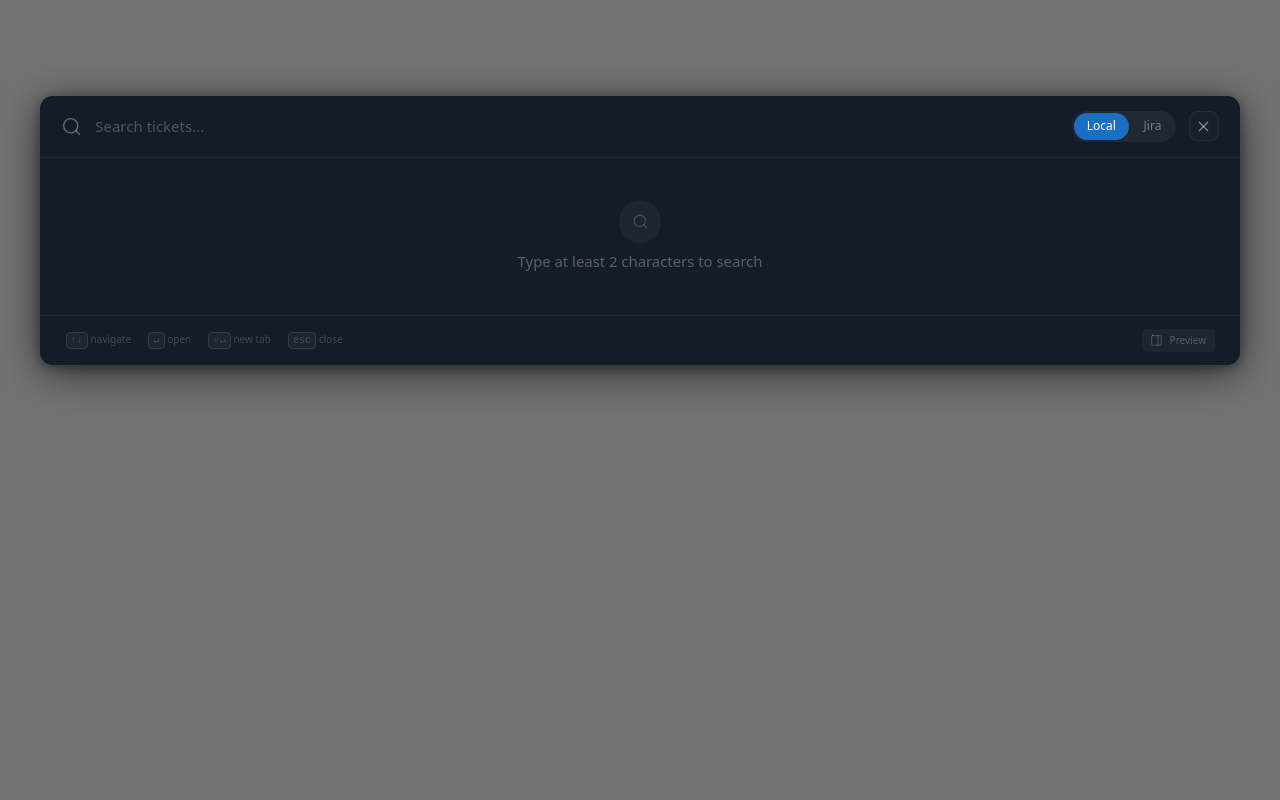
it: SearchModal › switches to Jira mode when Jira tab is clicked
This screenshot has width=1280, height=800.
Click the button "Jira" at (1152, 126), box 1131,113 -> 1174,140
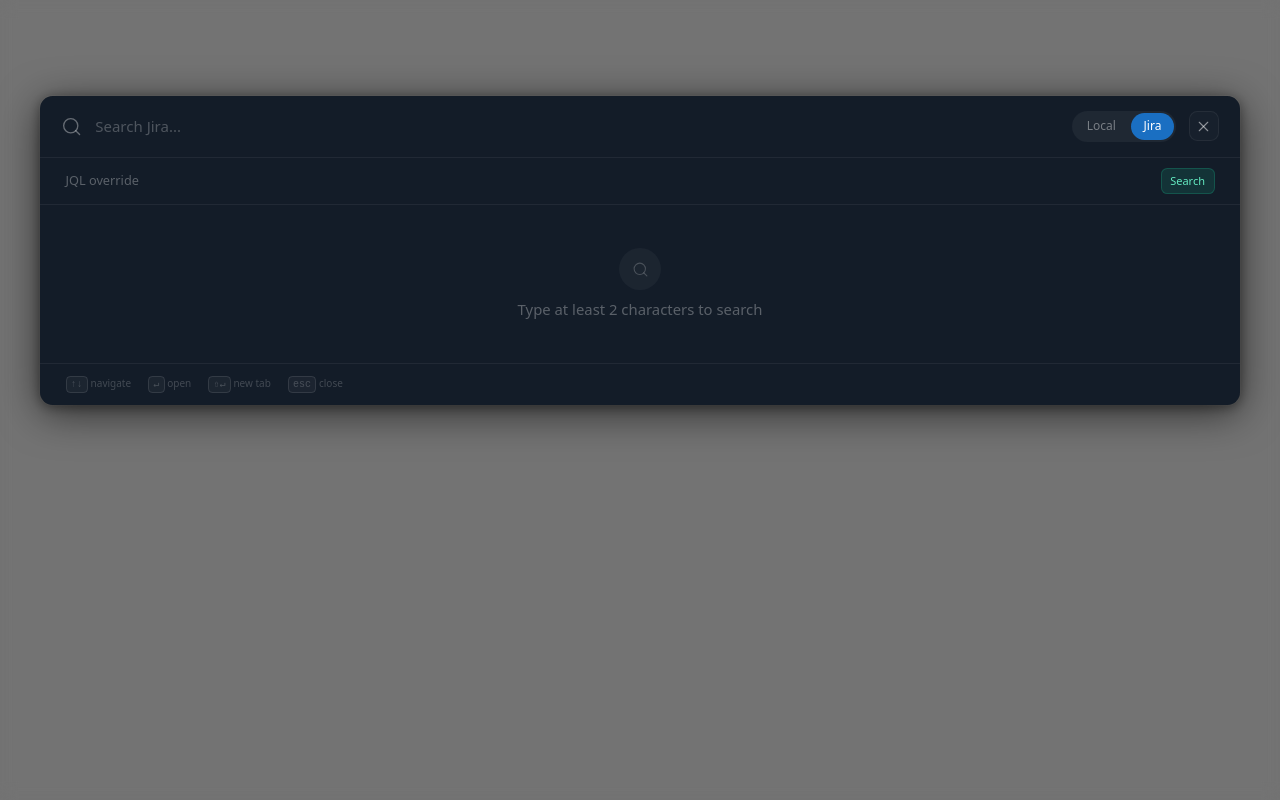
Expected: the field with placeholder "Search Jira..." is shown, 95,115 -> 1059,138
